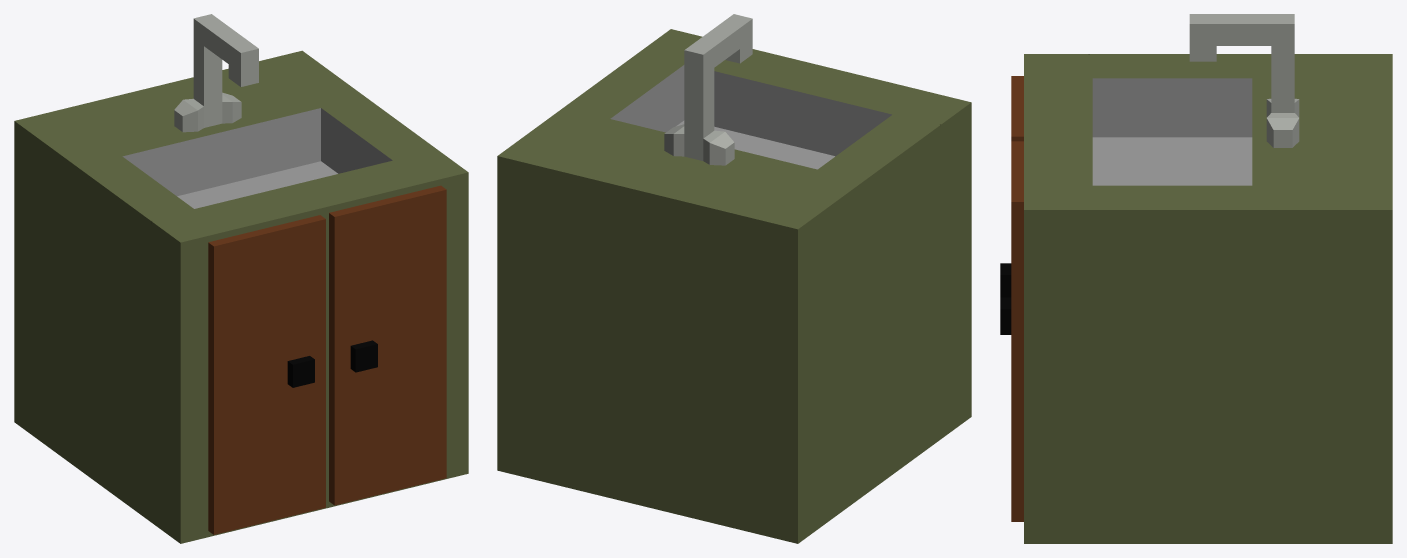
Rendered from sink.fbx.
3 views of the same model, side by side, from view 1: azimuth 30°, elevation 25°; view 2: azimuth 150°, elevation 25°; view 3: azimuth 270°, elevation 25° (orthographic). The views are drawn at different scales.
Parts seen in each view (by area): view 1: Cube; view 2: Cube; view 3: Cube.
Part boxes in pixels (<box>): Cube: <box>14,14,468,543</box>; Cube: <box>497,14,971,543</box>; Cube: <box>1000,14,1392,543</box>.
Bounding box in the file's own units: 200 × 268 × 213.
Materials: 1 (1 with a texture image).
